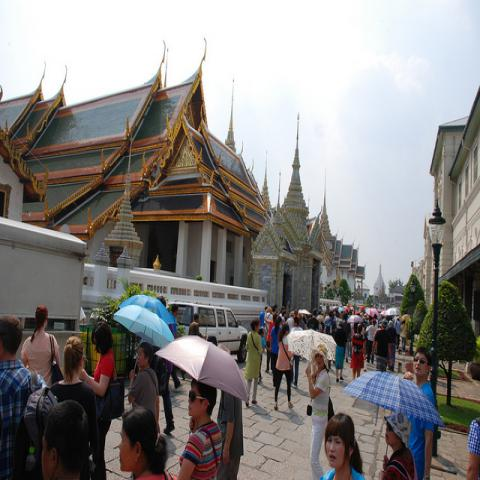car: (176, 303, 248, 365)
